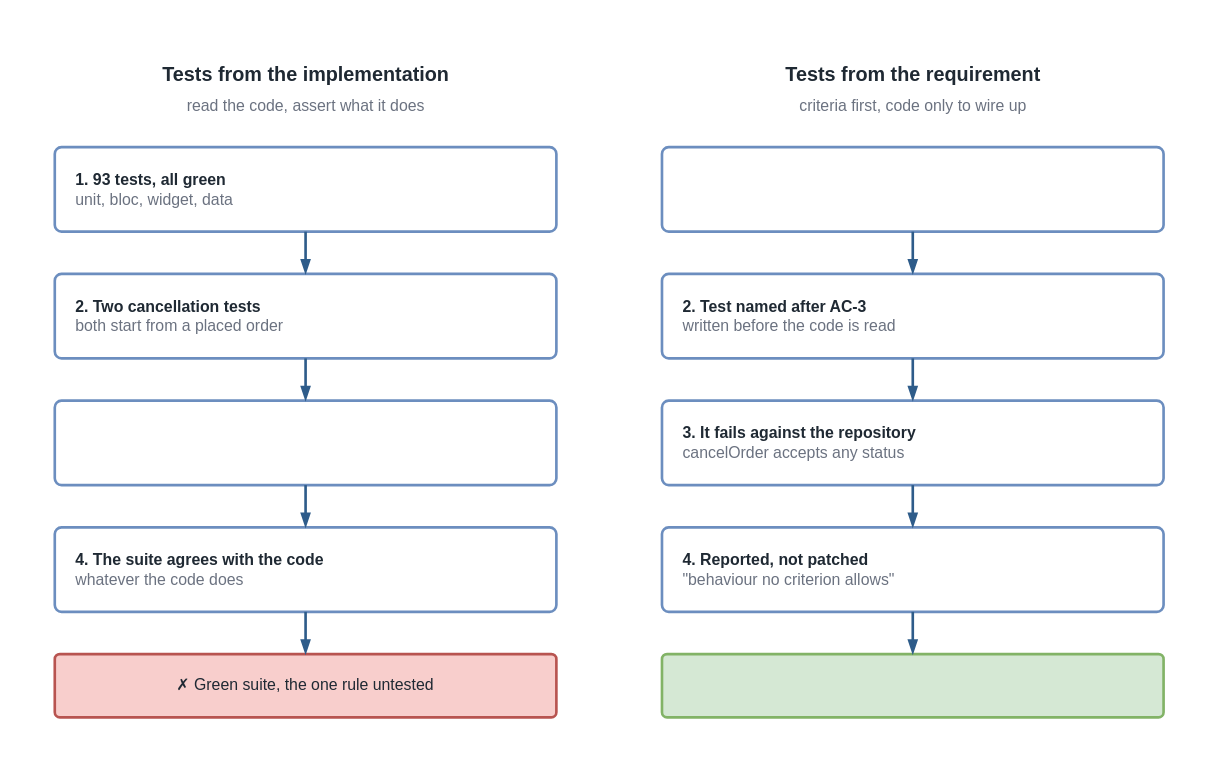
Some shapes in this 1217 by 771 pixel diagram are drawn without their labels. The shapes that lost their labels are listed below. From the top down, each one's centre as x and y in pixels, then its label:
At (x=912, y=188): "1. AC-3 in cancel-order.md given preparing, cancel is refused".
At (x=305, y=442): "3. Nothing cancels a preparing order the rule is never exercised".
At (x=912, y=685): "✓ The suite can now disagree with the code".
